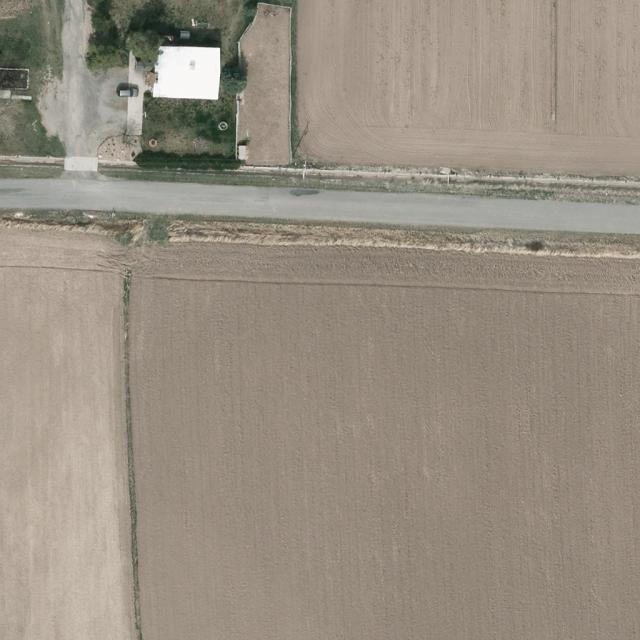vehicle: (114, 88, 140, 97)
